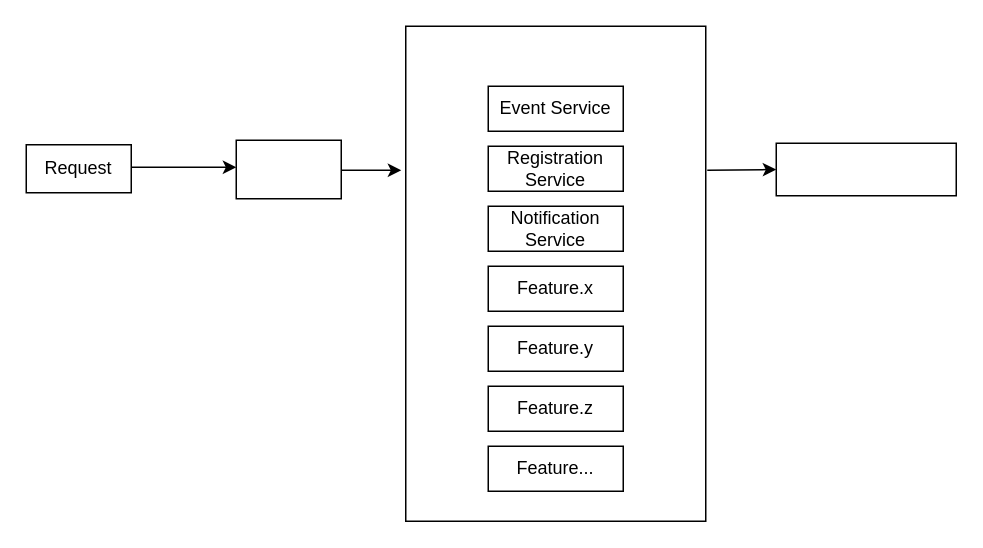
Some shapes in this 983 by 548 pixel diagram are drawn without their labels. The shapes that lost their labels are listed below. From the top down, each one's box as (x1, y1, x2, y2) in pixels, then its label:
(235, 139, 341, 199): Web Server
(775, 142, 956, 196): Database Server
(404, 25, 706, 521): Web Application
